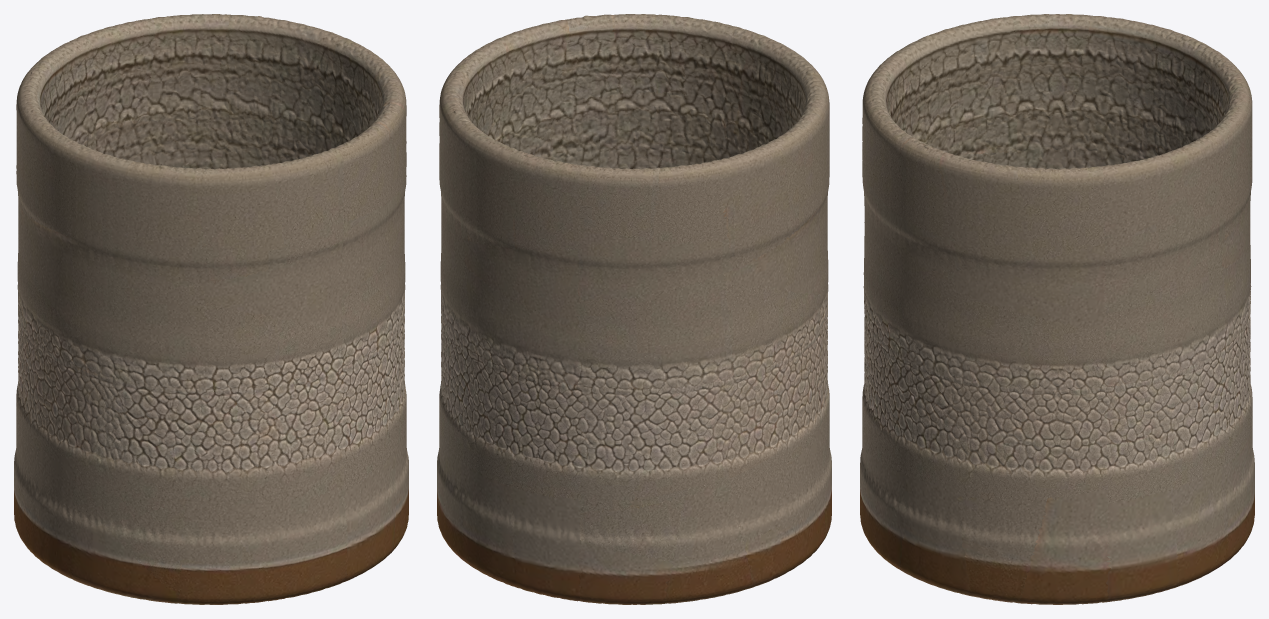
Rendered from bertom_pot.glb.
3 renders of one model, left to right at view 1: azimuth 30°, elevation 25°; view 2: azimuth 150°, elevation 25°; view 3: azimuth 270°, elevation 25°, orthographic.
Size of the model in its own units: 1.56 by 1.9 by 1.56.
Materials: 1 (1 with a texture image).
